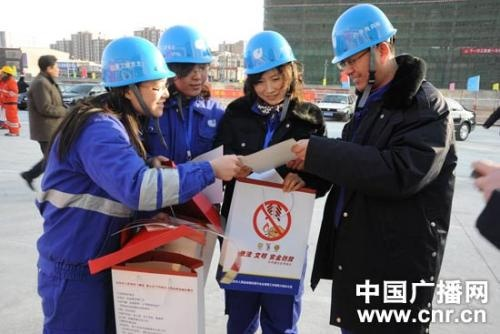blue: (331, 4, 397, 90), (102, 35, 169, 119), (243, 28, 300, 106), (158, 22, 210, 97)
none: (36, 52, 60, 83)
yellow: (1, 64, 15, 81)
